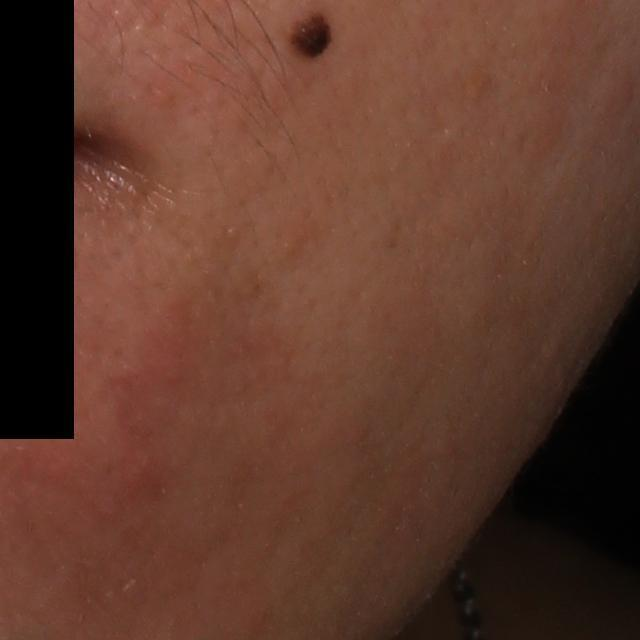nevus: (286, 5, 342, 59)
